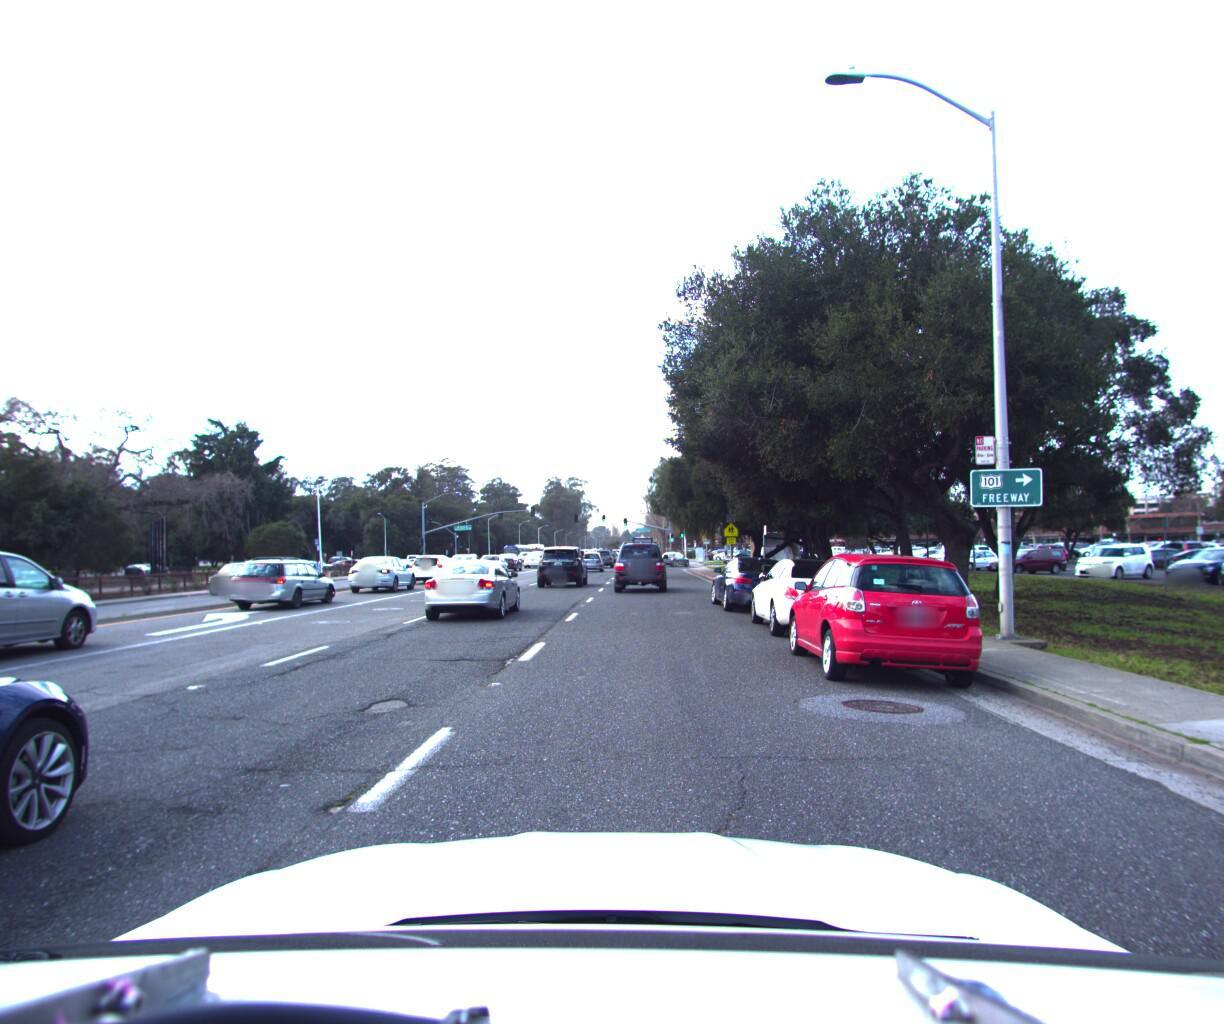car: (769, 544, 1002, 695), (740, 549, 879, 644), (221, 551, 343, 614), (413, 552, 523, 620), (703, 548, 800, 613), (611, 531, 665, 590), (343, 550, 420, 591), (204, 555, 274, 591), (535, 539, 587, 584), (405, 549, 461, 581), (444, 547, 489, 574), (474, 546, 510, 569), (655, 545, 690, 562), (579, 545, 605, 566), (590, 542, 613, 562), (519, 546, 544, 563)
